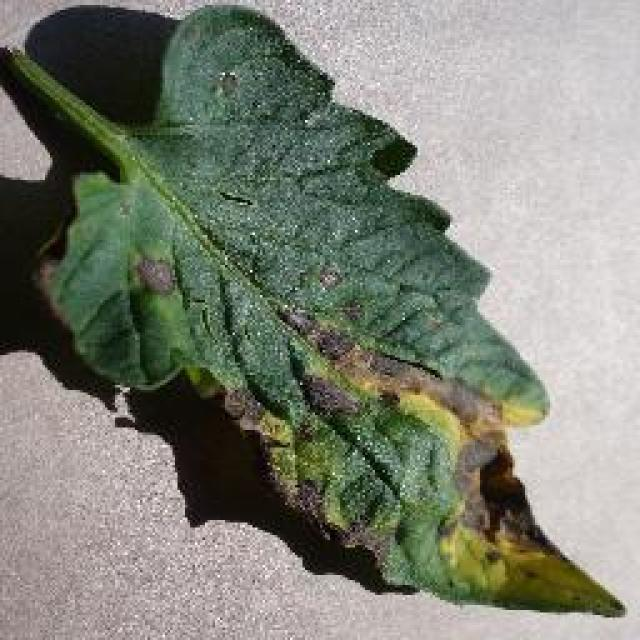Tomato___Early_blight: (0, 6, 632, 622)
